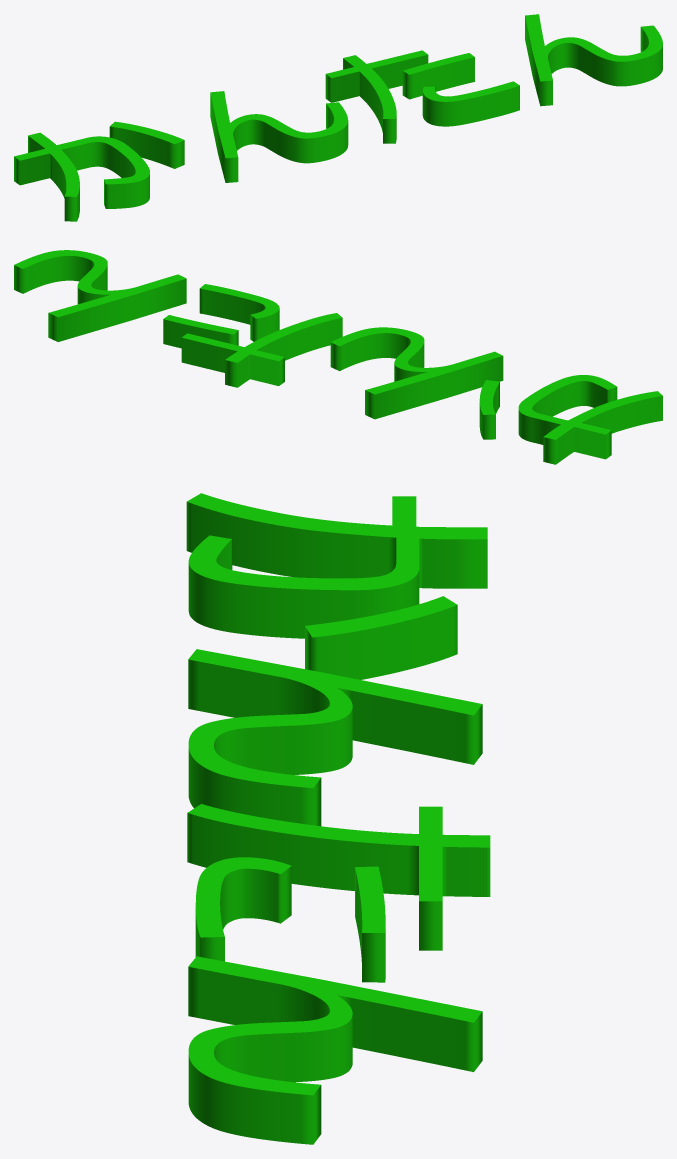
File: easy.fbx
The picture shows the model from 3 angles, top to bottom: view 1: azimuth 30°, elevation 25°; view 2: azimuth 150°, elevation 25°; view 3: azimuth 270°, elevation 25°; orthographic projection. The views are drawn at different scales.
Visible parts, largest first — view 1: Text; view 2: Text; view 3: Text.
Part boxes in pixels (x1,y1,x2,y2): Text: (14, 14, 662, 221); Text: (14, 250, 662, 464); Text: (186, 493, 490, 1144).
Bounding box in the file's own units: 261 × 10 × 55.66.
